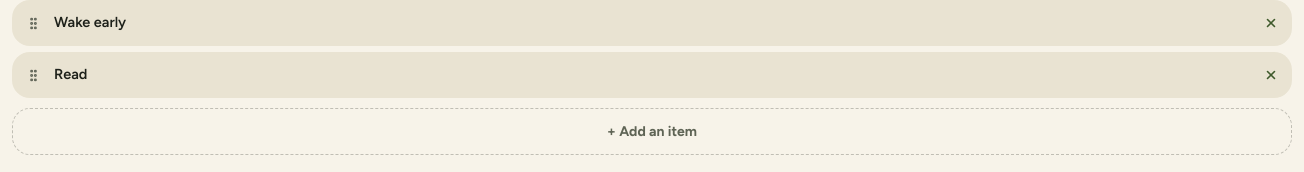
Test case: ChecklistSettingsEditor › surfaces a server-declared failure as a toast even when the input itself was valid
Replace the text in the 1st field showing "Wake early" with "Valid label" at (652,23), box left=54, top=12, right=1250, bottom=34
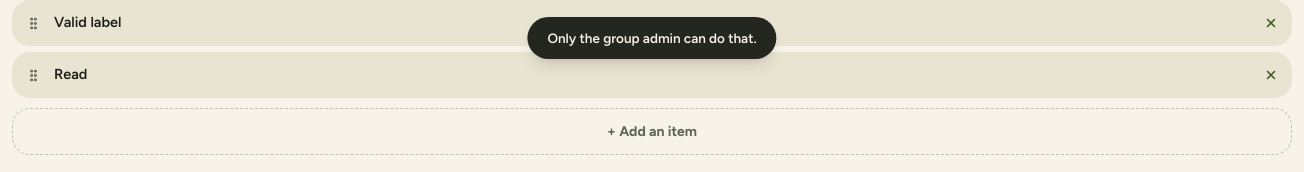
Expected: the text "Only the group admin can do that." is shown, left=527, top=17, right=777, bottom=59
